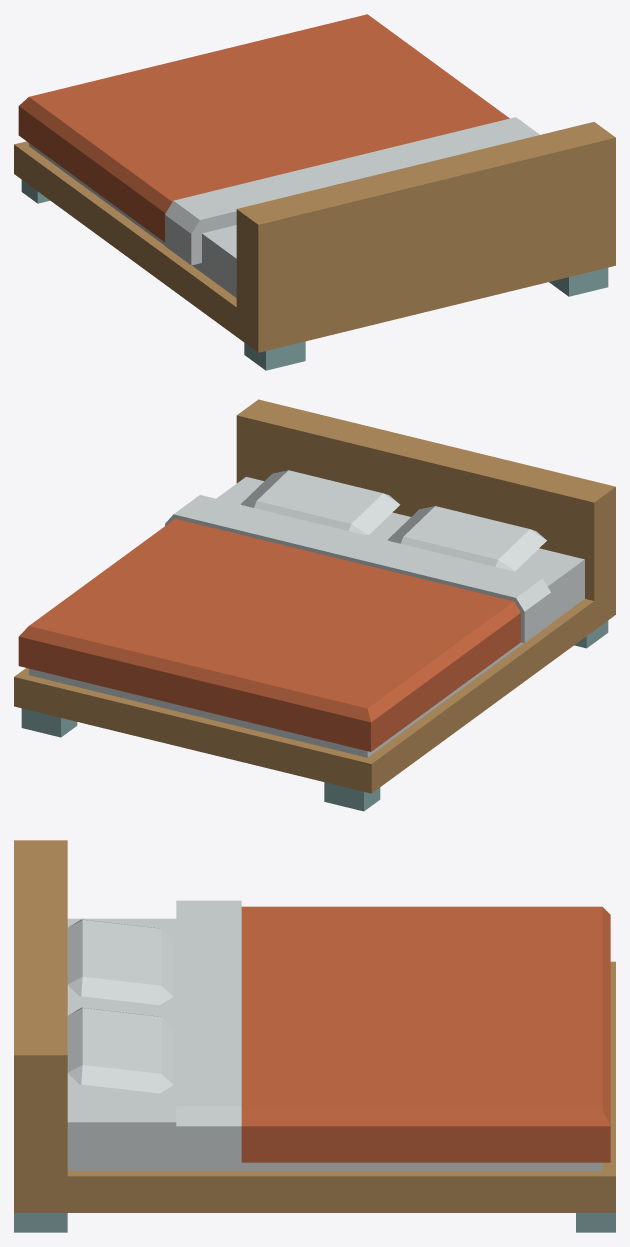
Rendered from bedDouble.glb.
3 renders of one model, top to bottom at view 1: azimuth 30°, elevation 25°; view 2: azimuth 150°, elevation 25°; view 3: azimuth 270°, elevation 25°, orthographic. The views are drawn at different scales.
Parts seen in each view (by area): view 1: bedDouble; view 2: bedDouble; view 3: bedDouble.
Boxes of the visible parts, <box> form: bedDouble: <box>14,14,615,370</box>; bedDouble: <box>14,399,615,811</box>; bedDouble: <box>14,840,615,1232</box>.
Size of the model in its own units: 1.91 by 0.75 by 2.25.
